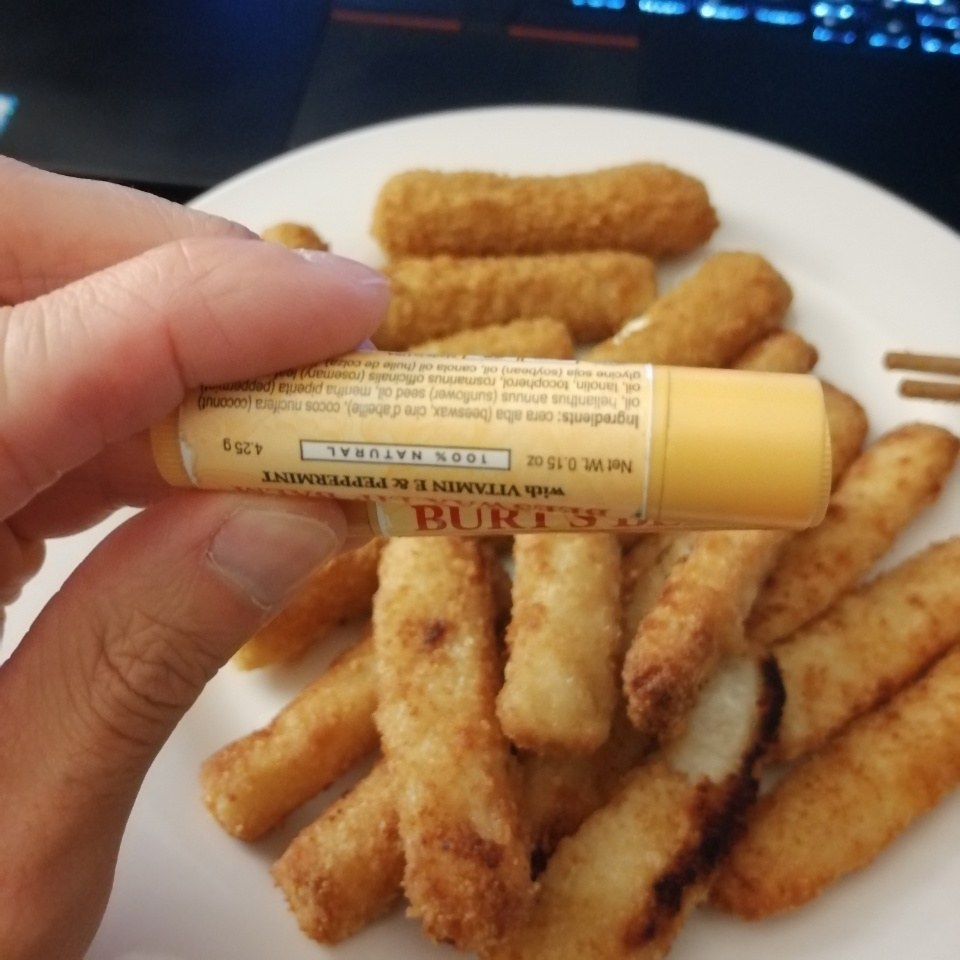chapstick: (151, 349, 828, 530), (224, 495, 833, 529)
